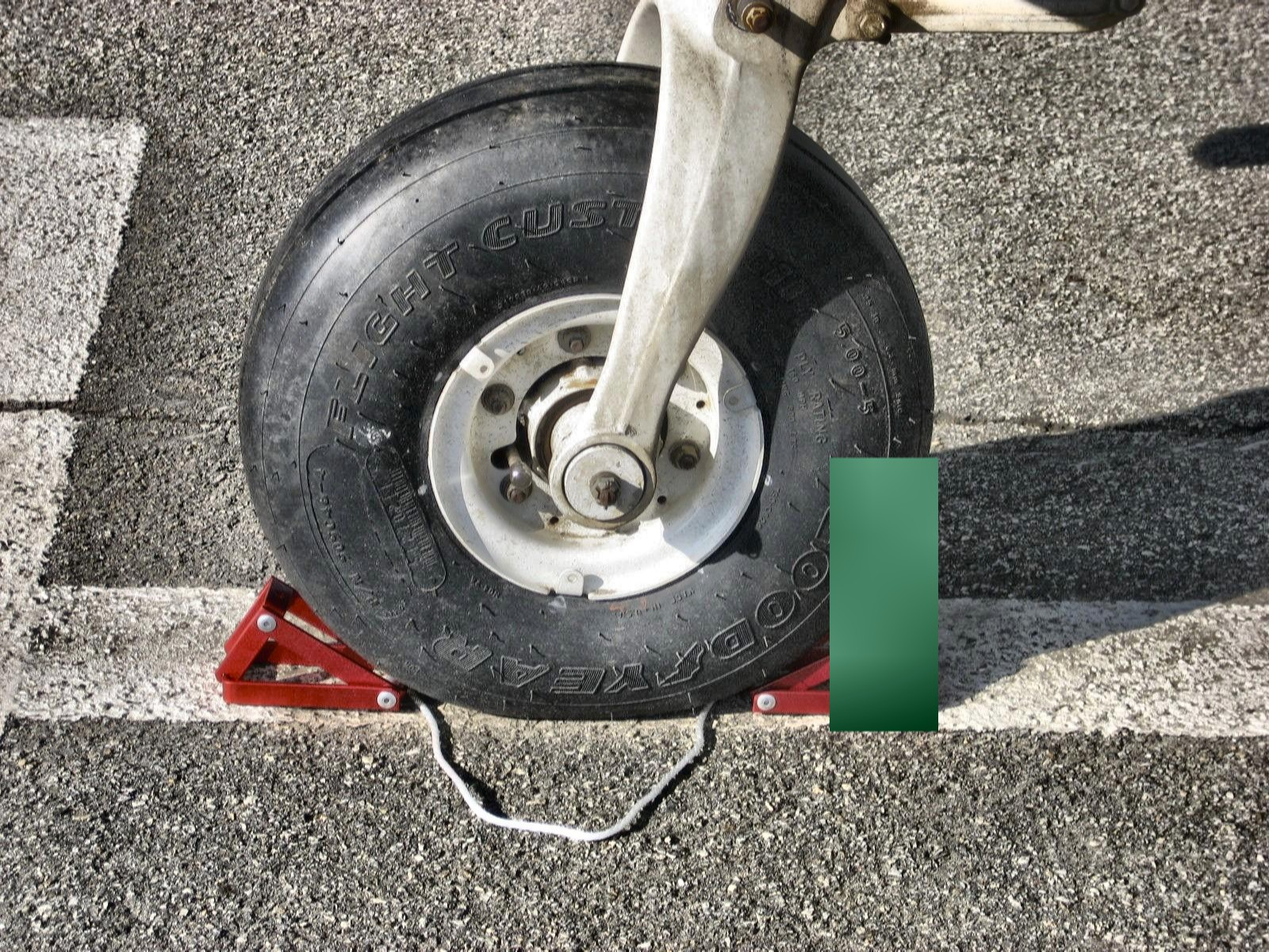chock: (209, 576, 406, 712), (748, 594, 941, 716)
wheel: (240, 63, 912, 704)
